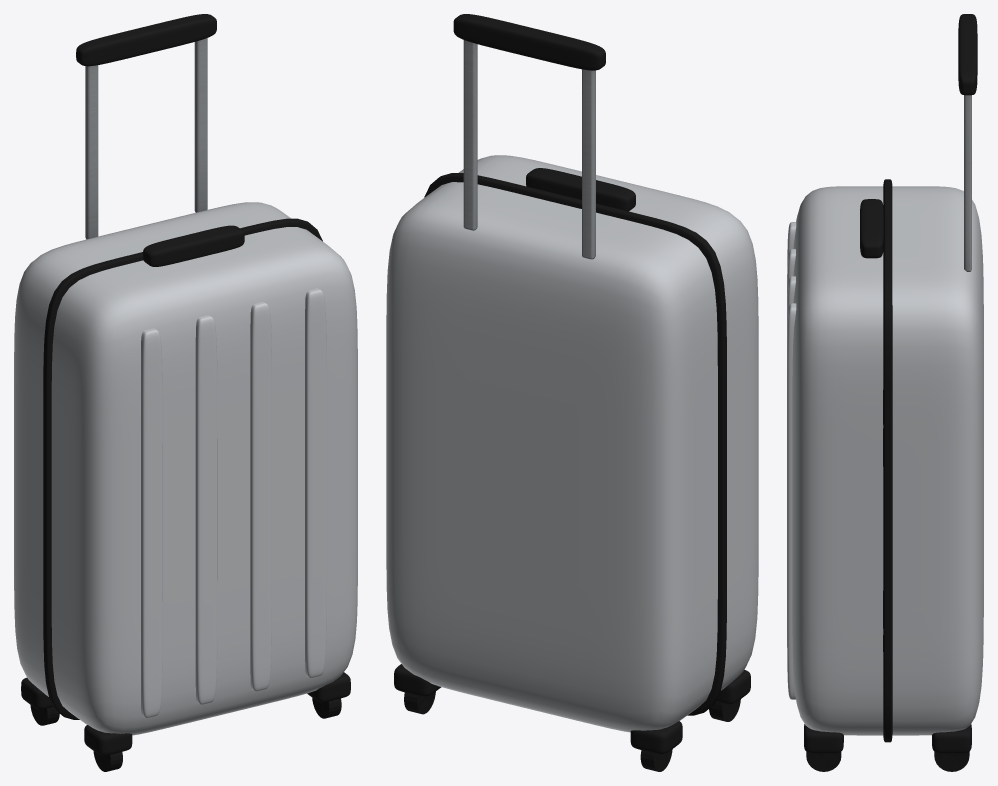
The model's file is hard-silver.glb.
3 renders of one model, left to right at view 1: azimuth 30°, elevation 25°; view 2: azimuth 150°, elevation 25°; view 3: azimuth 270°, elevation 25°, orthographic. The views are drawn at different scales.
Parts seen in each view (by area): view 1: paint_primary_shell, trim_black, zip_black, aluminium, rubber; view 2: paint_primary_shell, trim_black, zip_black, aluminium, rubber; view 3: paint_primary_shell, zip_black, trim_black, aluminium, rubber.
Part boxes in pixels (x1,y1,x2,y2): paint_primary_shell: (14,202,357,735); trim_black: (21,14,350,755); zip_black: (43,218,322,719); aluminium: (85,38,207,239); rubber: (30,698,341,771); paint_primary_shell: (386,155,758,732); trim_black: (394,14,750,754); zip_black: (424,173,726,715); aluminium: (463,40,595,259); rubber: (404,691,740,771); paint_primary_shell: (787,186,983,735); zip_black: (883,179,892,742); trim_black: (804,14,977,753); aluminium: (964,95,971,271); rubber: (806,751,969,771).
Size of the model in its own units: 0.414 by 0.925 by 0.246.
Materials: 5 (2 with a texture image).
